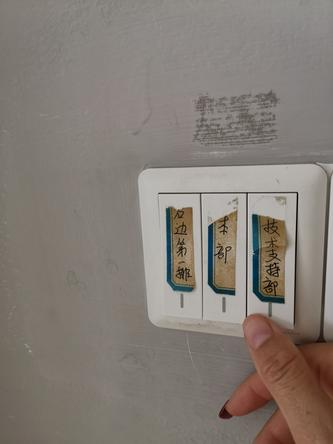switch: (194, 186, 256, 328), (242, 188, 300, 332), (152, 184, 205, 322)
